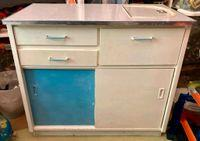cabinet_door: (95, 68, 167, 130), (27, 68, 95, 126), (99, 29, 180, 65), (14, 28, 96, 45), (19, 49, 96, 67)
handle: (130, 35, 156, 43), (45, 34, 70, 41), (48, 56, 72, 63)
